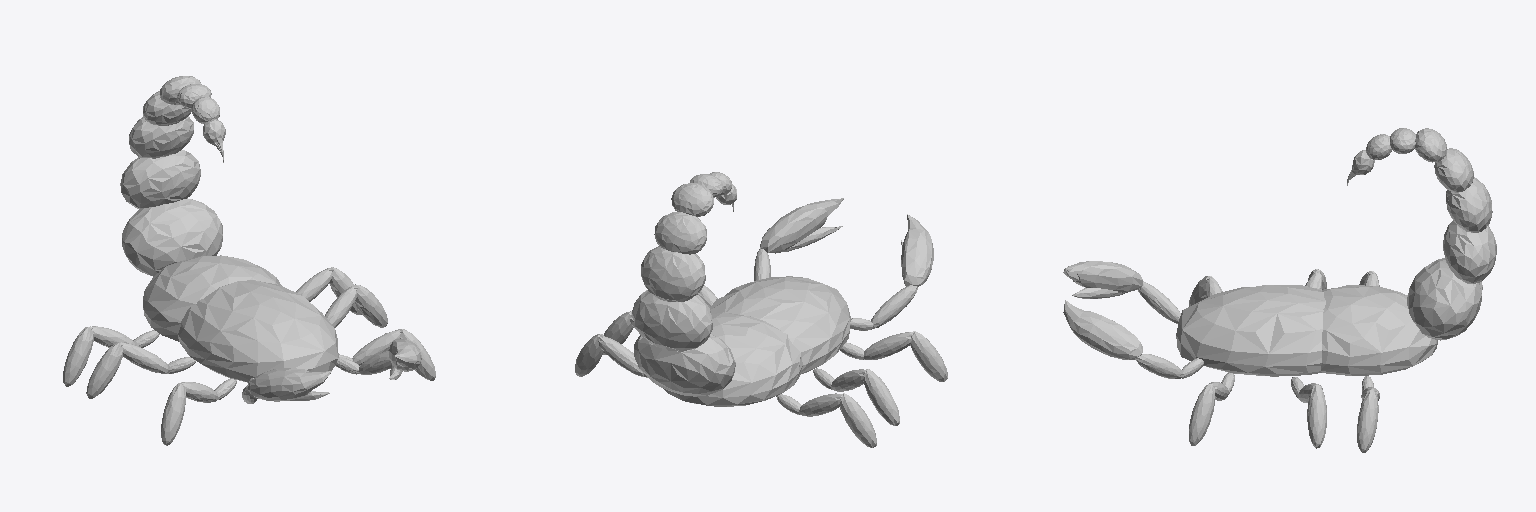
The model's file is scorpion_000024.obj.
3 views of the same model, side by side, from view 1: azimuth 30°, elevation 25°; view 2: azimuth 150°, elevation 25°; view 3: azimuth 270°, elevation 25° (orthographic).
Parts seen in each view (by area): view 1: Sphere.010_Sphere.012, Sphere.002_Sphere.004, Sphere.011_Sphere.013, Sphere.003_Sphere.005, Sphere.030_Sphere.000, Sphere.004_Sphere.006, Sphere.012_Sphere.020, Sphere.000_Sphere.019, Sphere.014_Sphere.023, Sphere.016_Sphere.022, Sphere.013_Sphere.017, Sphere.018_Sphere.025 (+6 smaller); view 2: Sphere.010_Sphere.012, Sphere.011_Sphere.013, Sphere.002_Sphere.004, Sphere.030_Sphere.000, Sphere.003_Sphere.005, Sphere.004_Sphere.006, Sphere.014_Sphere.023, Sphere.005_Sphere.007, Sphere.012_Sphere.020, Sphere.018_Sphere.025, Sphere.028_Sphere.046, Sphere.006_Sphere.008 (+3 smaller); view 3: Sphere.010_Sphere.012, Sphere.011_Sphere.013, Sphere.002_Sphere.004, Sphere.030_Sphere.000, Sphere.003_Sphere.005, Sphere.004_Sphere.006, Sphere.028_Sphere.046, Sphere.000_Sphere.019, Sphere.005_Sphere.007, Sphere.012_Sphere.020, Sphere.014_Sphere.023, Sphere.006_Sphere.008 (+1 smaller).
Part boxes in pixels (x1,y1,x2,y2): Sphere.010_Sphere.012: (178, 280, 338, 382); Sphere.002_Sphere.004: (122, 198, 222, 276); Sphere.011_Sphere.013: (143, 255, 281, 341); Sphere.003_Sphere.005: (120, 150, 200, 208); Sphere.030_Sphere.000: (248, 339, 421, 401); Sphere.004_Sphere.006: (129, 116, 193, 158); Sphere.012_Sphere.020: (86, 284, 387, 398); Sphere.000_Sphere.019: (161, 329, 435, 445); Sphere.014_Sphere.023: (63, 267, 361, 386); Sphere.016_Sphere.022: (119, 286, 356, 373); Sphere.013_Sphere.017: (182, 330, 400, 402); Sphere.018_Sphere.025: (90, 268, 331, 347); Sphere.010_Sphere.012: (710, 276, 850, 373); Sphere.011_Sphere.013: (663, 312, 802, 406); Sphere.002_Sphere.004: (634, 332, 735, 396); Sphere.030_Sphere.000: (760, 198, 933, 286); Sphere.003_Sphere.005: (632, 290, 712, 351); Sphere.004_Sphere.006: (641, 246, 705, 301); Sphere.014_Sphere.023: (575, 334, 876, 447); Sphere.005_Sphere.007: (654, 212, 706, 254); Sphere.012_Sphere.020: (603, 311, 899, 425); Sphere.018_Sphere.025: (598, 336, 842, 416); Sphere.028_Sphere.046: (754, 248, 917, 328); Sphere.006_Sphere.008: (671, 183, 713, 216); Sphere.010_Sphere.012: (1176, 285, 1325, 376); Sphere.011_Sphere.013: (1321, 285, 1437, 375); Sphere.002_Sphere.004: (1407, 258, 1482, 340); Sphere.030_Sphere.000: (1063, 261, 1142, 359); Sphere.003_Sphere.005: (1443, 220, 1496, 283); Sphere.004_Sphere.006: (1446, 177, 1492, 232); Sphere.028_Sphere.046: (1135, 281, 1183, 378); Sphere.000_Sphere.019: (1189, 276, 1215, 445); Sphere.005_Sphere.007: (1434, 148, 1473, 192); Sphere.012_Sphere.020: (1307, 269, 1326, 448); Sphere.014_Sphere.023: (1357, 271, 1378, 452); Sphere.006_Sphere.008: (1415, 128, 1446, 162).
Bounding box in the file's own units: 0.9513 × 0.7585 × 1.19.